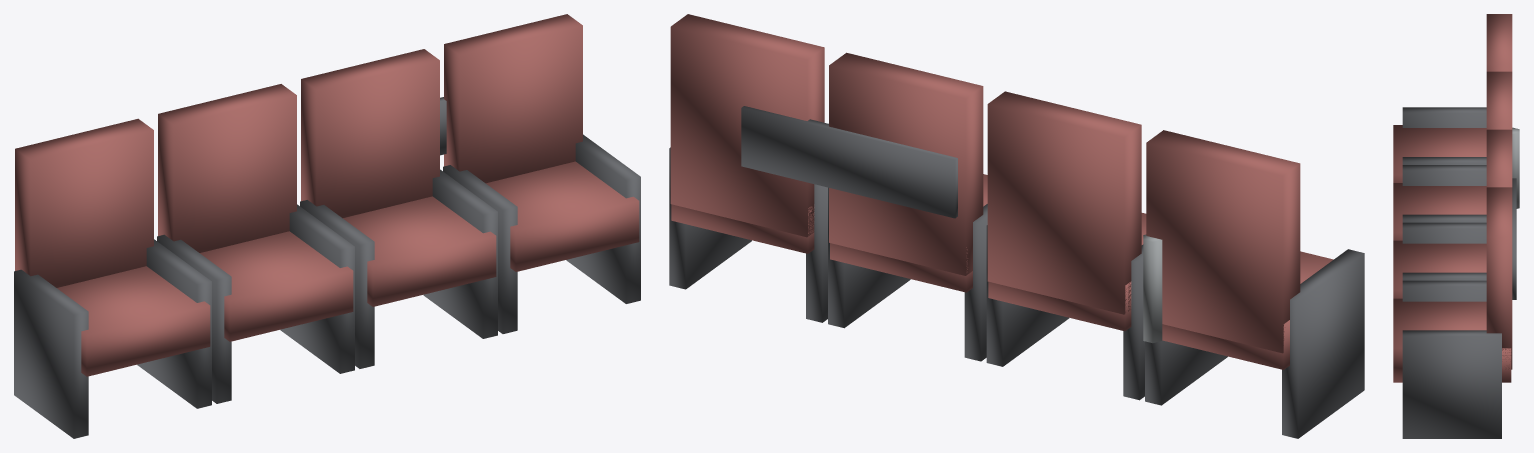
File: theater_seat_row__service.glb
3 renders of one model, left to right at view 1: azimuth 30°, elevation 25°; view 2: azimuth 150°, elevation 25°; view 3: azimuth 270°, elevation 25°, orthographic. The views are drawn at different scales.
Parts seen in each view (by area): view 1: world; view 2: world; view 3: world.
Part boxes in pixels (bbox=[...]): world: bbox=[14, 14, 640, 438]; world: bbox=[669, 14, 1364, 438]; world: bbox=[1393, 14, 1519, 438].
Size of the model in its own units: 2.3 by 0.93 by 0.5353.
